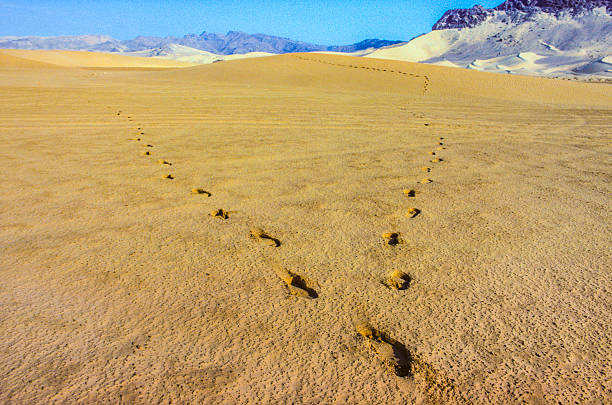human_foot_print: (353, 320, 412, 376), (272, 263, 317, 297), (250, 227, 280, 246), (383, 270, 411, 289), (382, 232, 401, 245), (209, 209, 230, 218), (191, 188, 211, 196), (405, 208, 420, 217), (403, 189, 416, 197), (157, 159, 171, 165), (419, 178, 432, 183), (421, 167, 431, 173), (162, 174, 173, 179), (142, 151, 151, 156), (431, 158, 442, 162)
